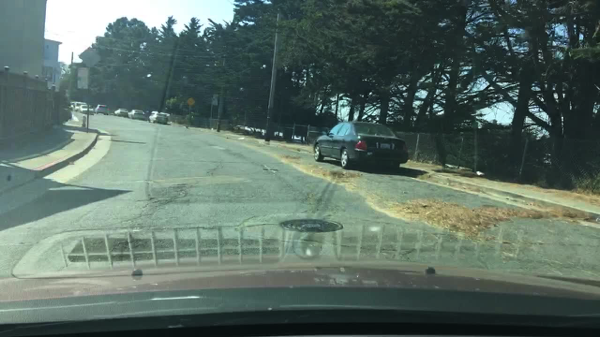car: (312, 120, 409, 171), (148, 110, 170, 126), (128, 109, 146, 120), (94, 103, 110, 115), (78, 105, 93, 117), (70, 101, 86, 112), (114, 109, 128, 117)
traffic sign: (76, 48, 101, 67), (76, 67, 88, 89), (185, 98, 196, 106), (212, 94, 218, 106)
